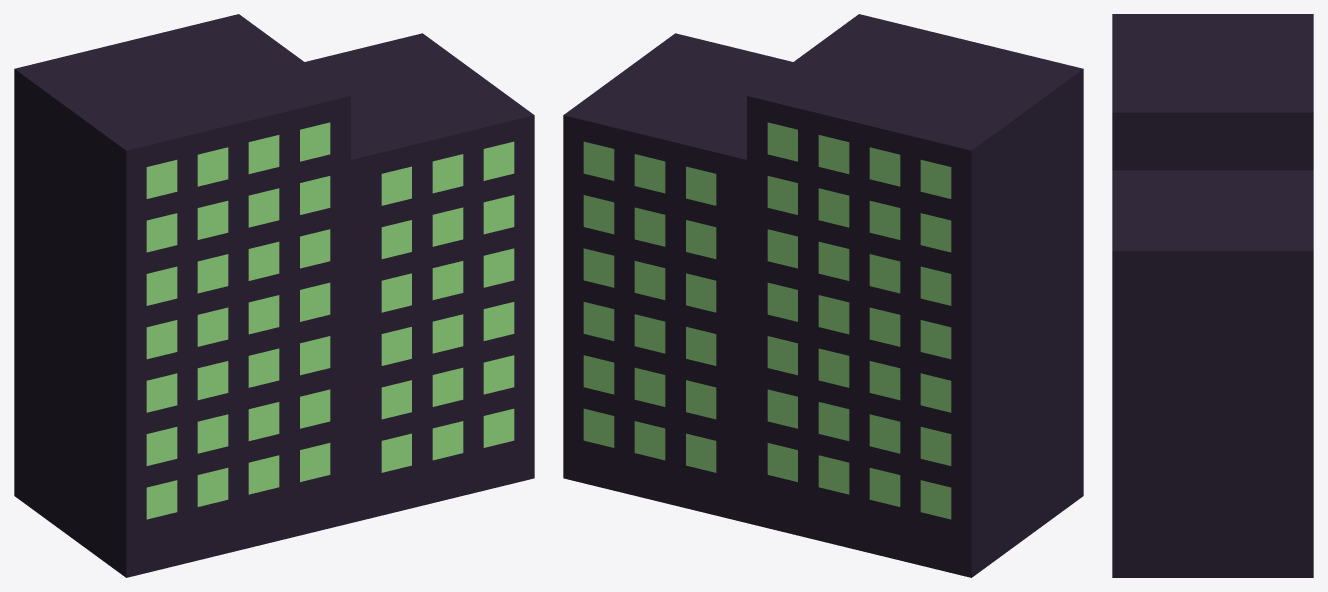
File: predios_1.obj
3 views of the same model, side by side, from view 1: azimuth 30°, elevation 25°; view 2: azimuth 150°, elevation 25°; view 3: azimuth 270°, elevation 25° (orthographic). The views are drawn at different scales.
Size of the model in its own units: 4 by 4 by 1.9.
Materials: 1 (1 with a texture image).
